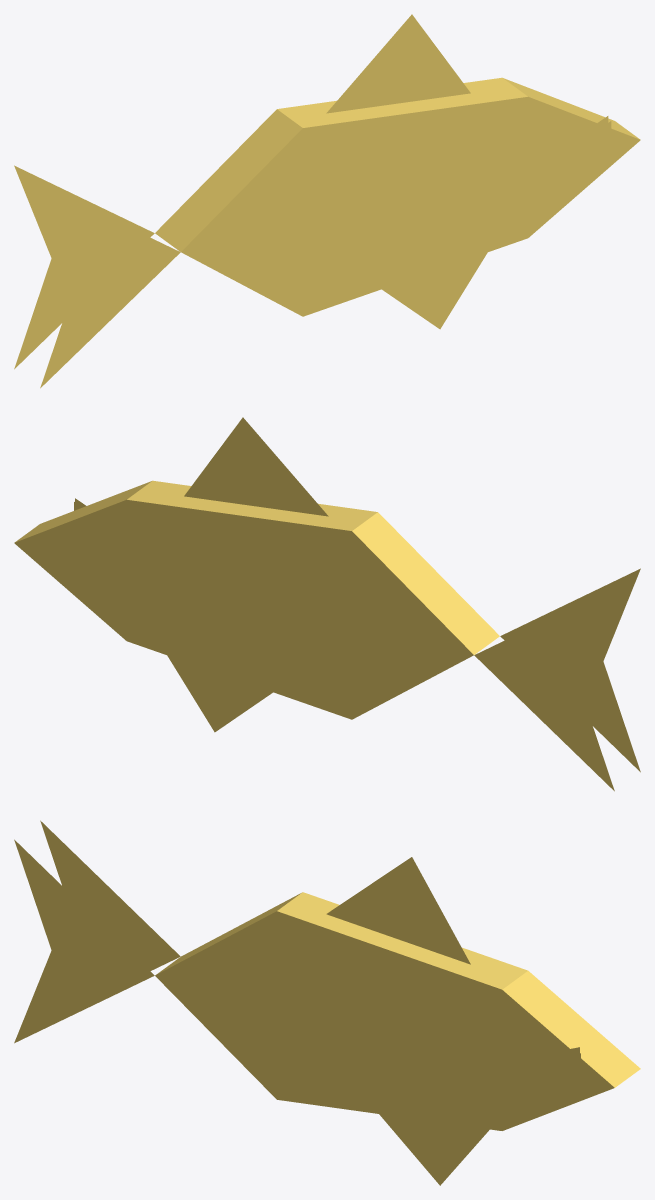
File: mahi-mahi.gltf
3 renders of one model, top to bottom at view 1: azimuth 30°, elevation 25°; view 2: azimuth 150°, elevation 25°; view 3: azimuth 330°, elevation 25°, orthographic.
Visible parts, largest first — view 1: mahi_mahi; view 2: mahi_mahi; view 3: mahi_mahi.
Part boxes in pixels (x1=…): mahi_mahi: x1=14, y1=14, x2=640, y2=388; mahi_mahi: x1=14, y1=417, x2=640, y2=791; mahi_mahi: x1=14, y1=820, x2=640, y2=1185.
Bounding box in the file's own units: 3.2 × 1.64 × 0.26.
